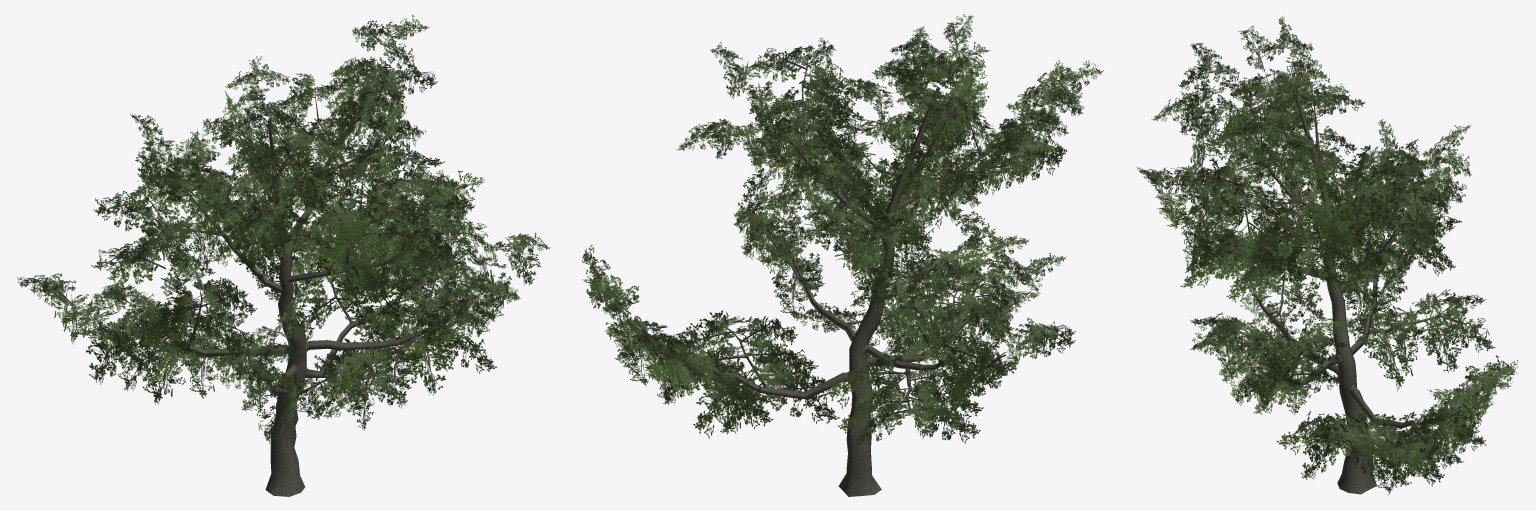
The model's file is oak2.glb.
The picture shows the model from 3 angles, left to right: view 1: azimuth 30°, elevation 25°; view 2: azimuth 150°, elevation 25°; view 3: azimuth 270°, elevation 25°; orthographic projection. The views are drawn at different scales.
Visible parts, largest first — view 1: leaves, bark; view 2: leaves, bark; view 3: leaves, bark.
Boxes of the visible parts, x1,y1,x2,y2 form: leaves: (17,14,550,444); bark: (130,84,471,496); leaves: (582,14,1103,448); bark: (665,63,1035,496); leaves: (1137,16,1518,494); bark: (1193,71,1481,494).
Bounding box in the file's own units: 20.51 × 19.46 × 15.65.
Materials: 2 (2 with a texture image).
